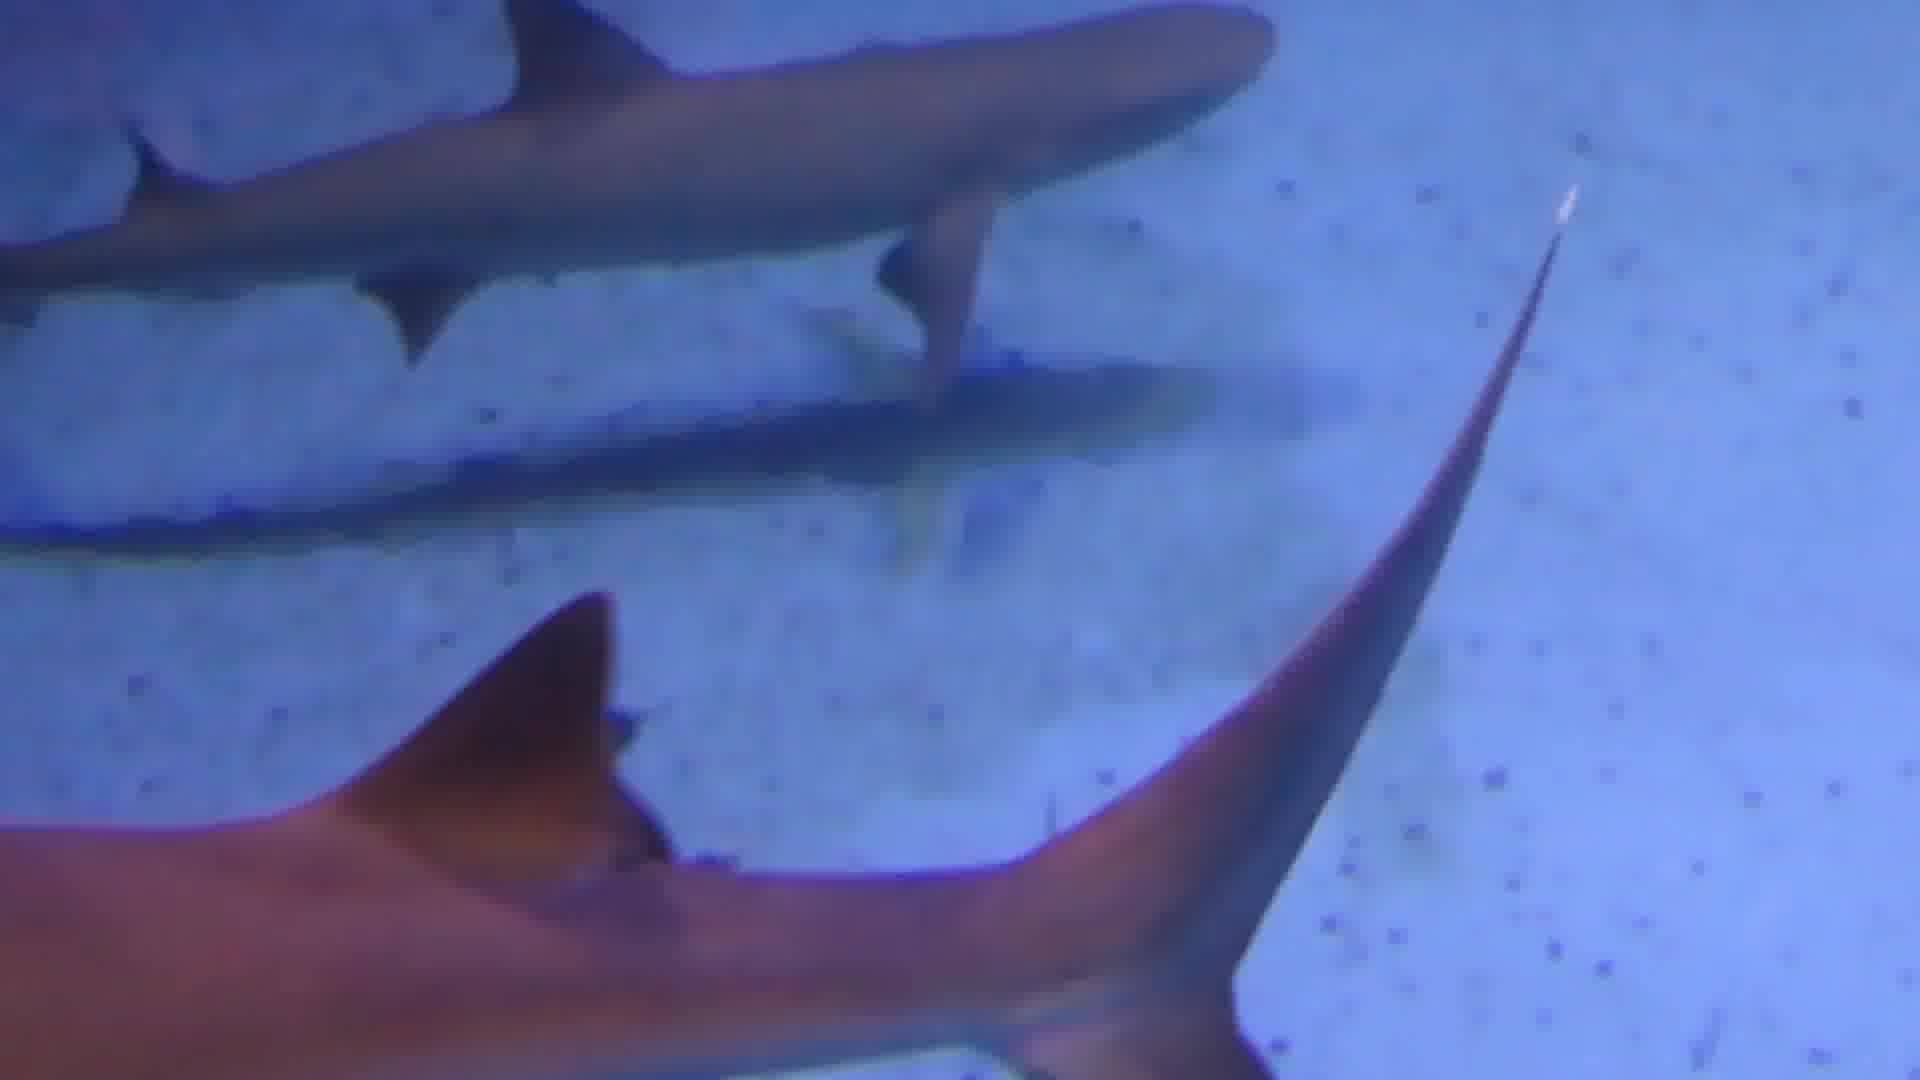Triaenodon obesus: (1, 500, 1538, 1080), (1, 1, 1445, 402)
